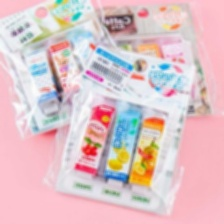carton: (101, 105, 143, 187), (71, 105, 117, 179), (127, 112, 169, 189), (19, 47, 63, 116), (45, 38, 84, 98), (72, 29, 99, 72), (158, 40, 187, 69), (133, 42, 161, 67)
